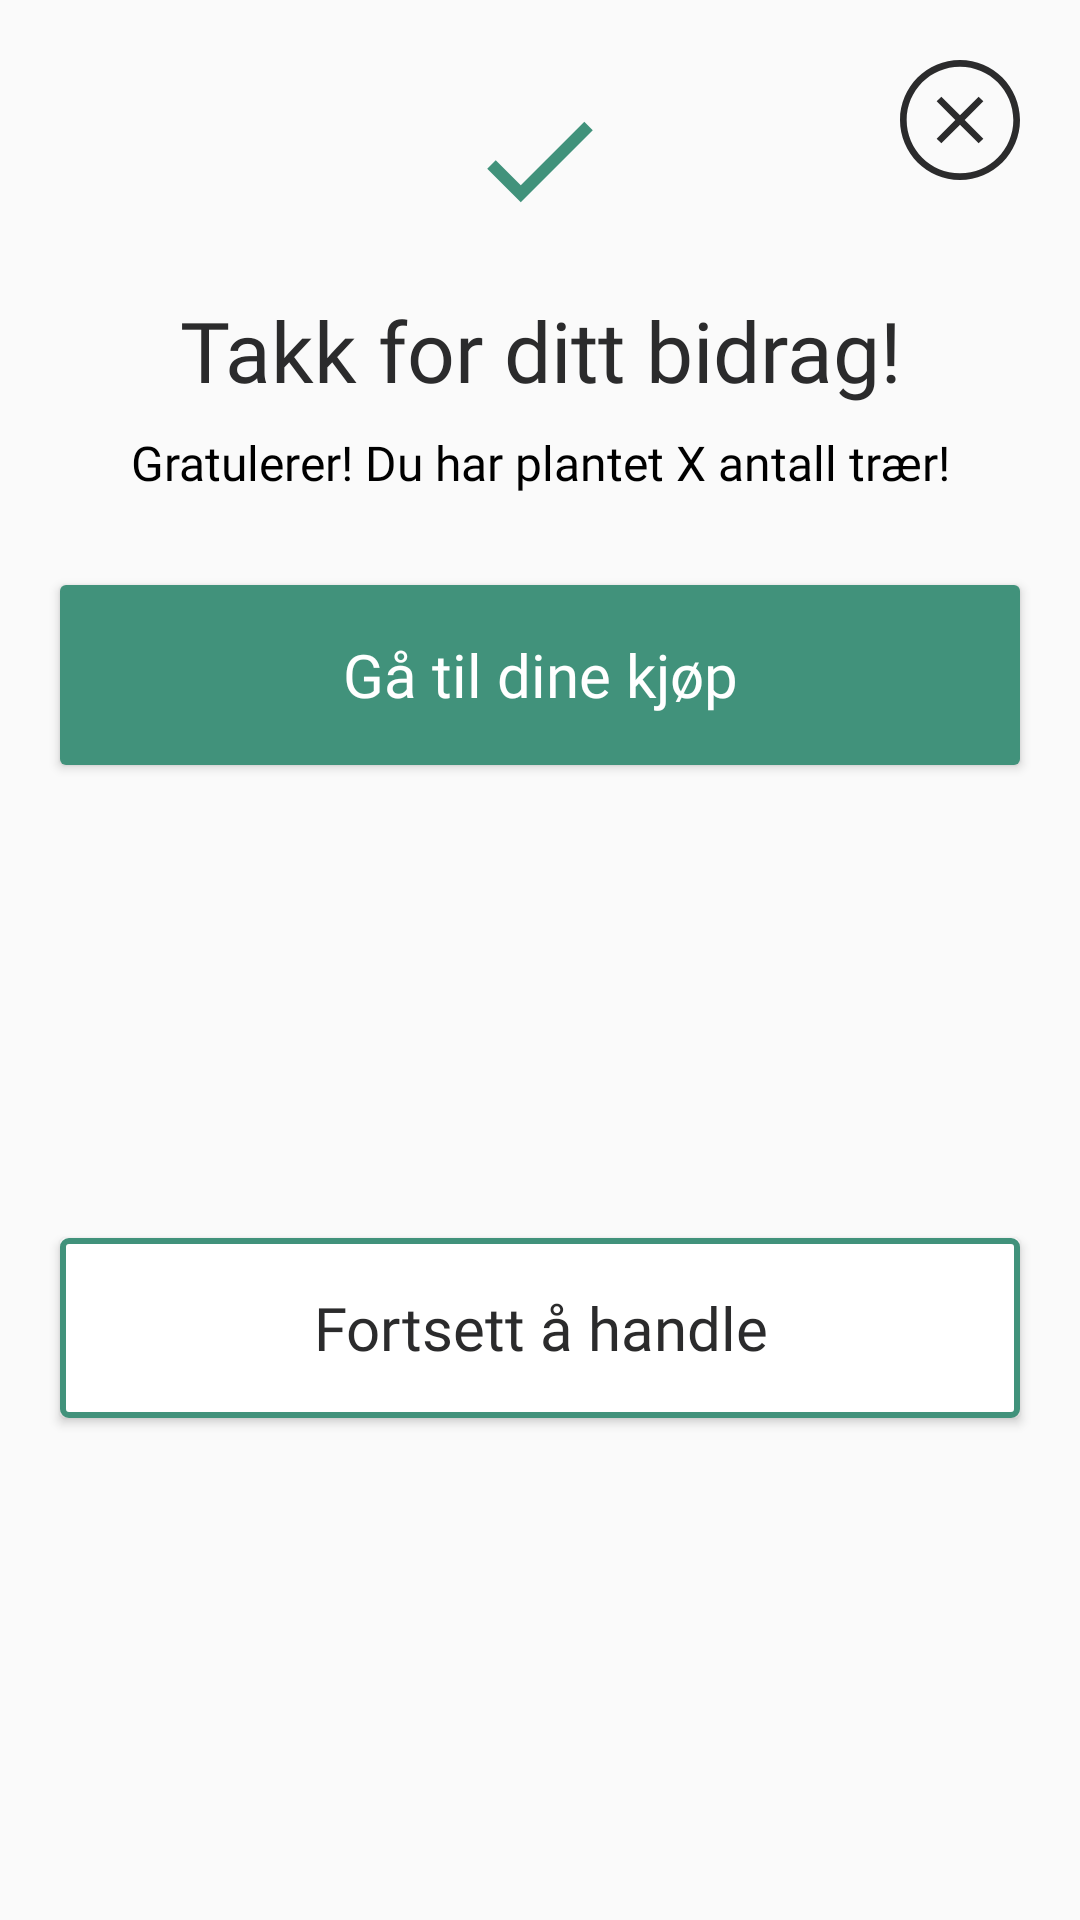

Point at icon controls on the screen. Image size 1080w x 1920h, points as (x=x, y=y).
checkicon: (x=540, y=162)
close marker: (x=960, y=120)
